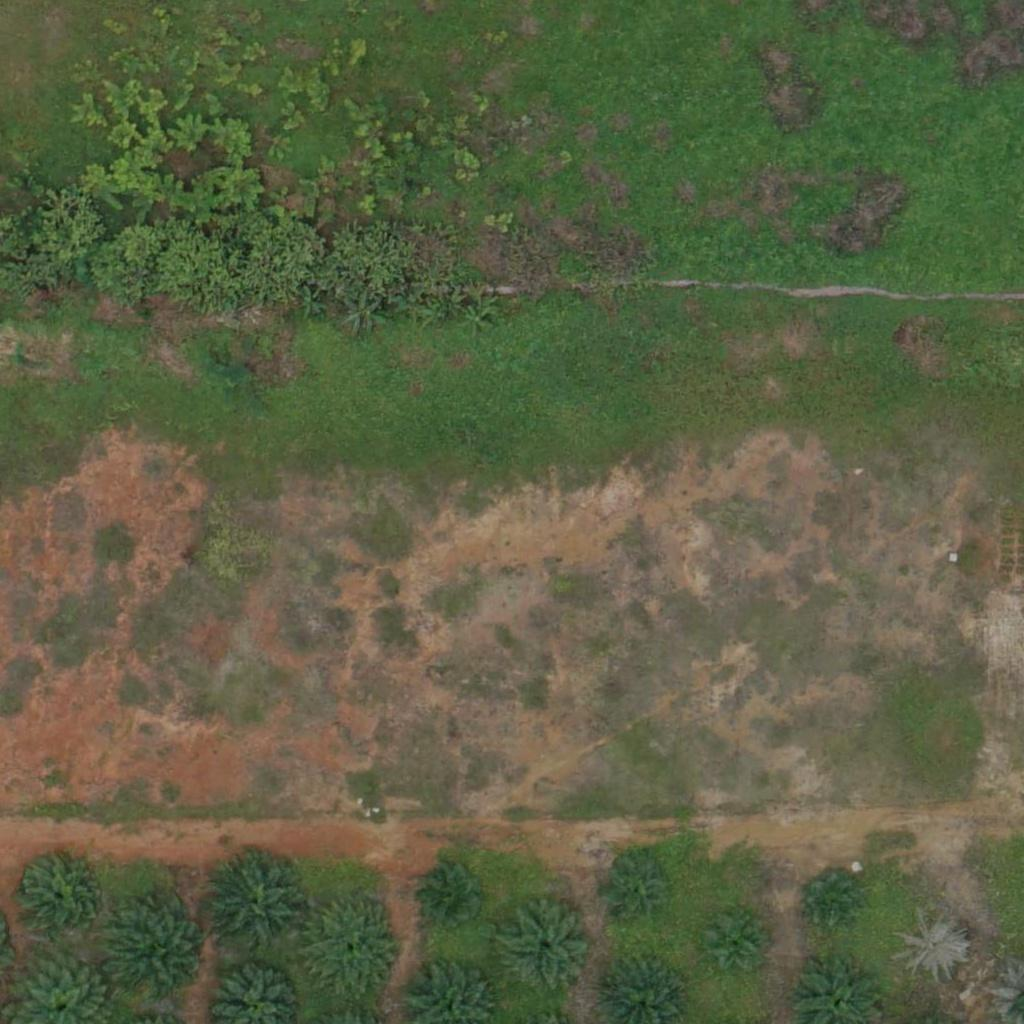Kelapa_Sawit: (202, 849, 314, 962), (110, 904, 210, 1005), (304, 901, 404, 1002), (497, 897, 597, 998), (14, 852, 101, 940), (895, 908, 970, 984), (606, 860, 669, 923), (703, 907, 766, 970), (423, 862, 486, 925), (799, 868, 861, 930)
